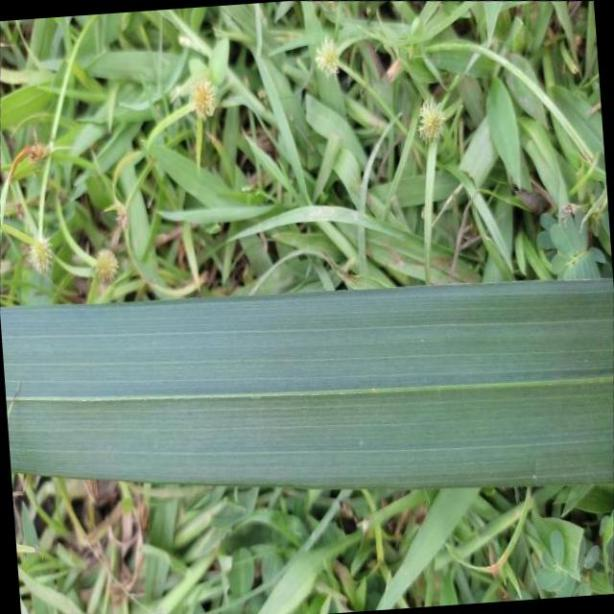Healthy: (0, 275, 614, 489), (0, 297, 13, 299)
